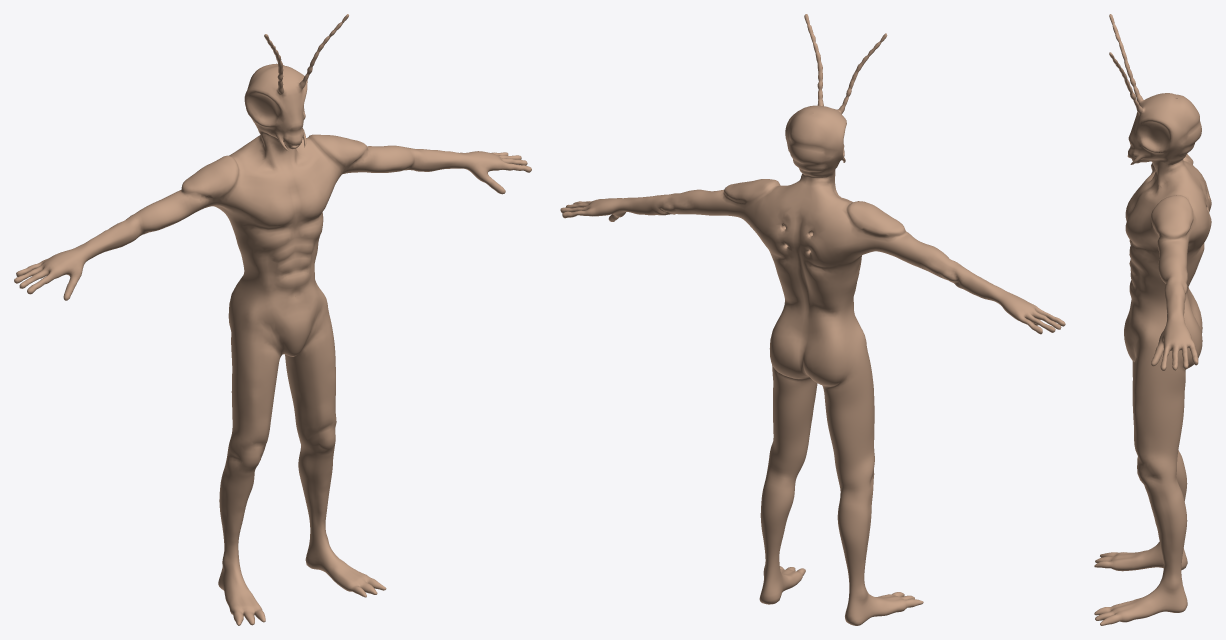
Rendered from Insecte_RetopoHigh.fbx.
3 views of the same model, side by side, from view 1: azimuth 30°, elevation 25°; view 2: azimuth 150°, elevation 25°; view 3: azimuth 270°, elevation 25° (orthographic). The views are drawn at different scales.
Parts seen in each view (by area): view 1: Body_retopology; view 2: Body_retopology; view 3: Body_retopology.
Boxes of the visible parts, <box> form: Body_retopology: <box>14,14,531,625</box>; Body_retopology: <box>560,14,1065,625</box>; Body_retopology: <box>1094,14,1211,625</box>.
Bounding box in the file's own units: 74.07 × 81.13 × 15.42.
